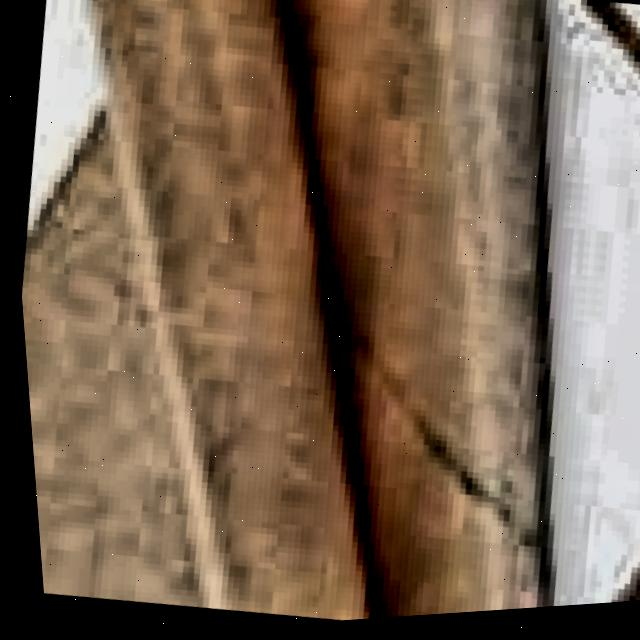paper: (17, 0, 640, 625)
